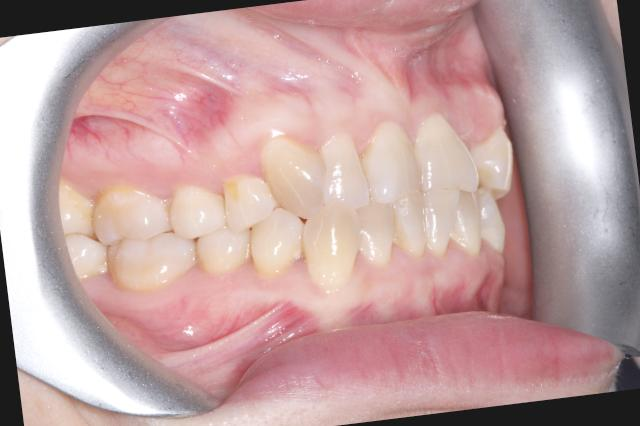canine class II 1/4: (235, 125, 368, 300)
molar class I: (85, 175, 203, 304)
